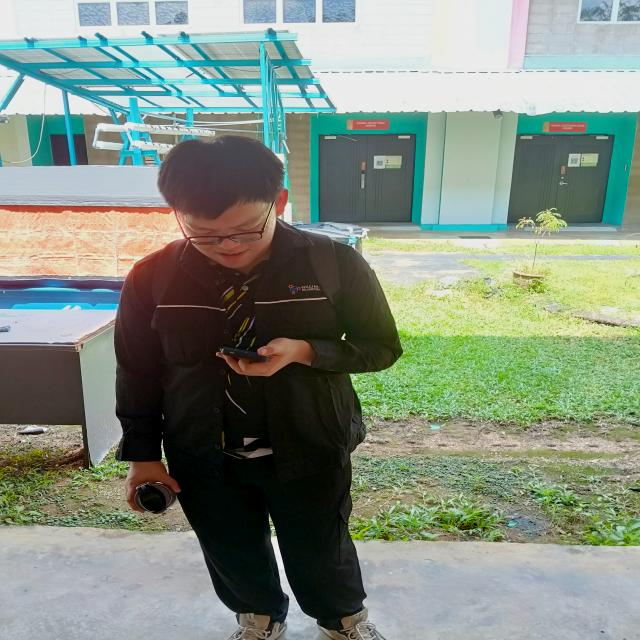person_with_labcoat: (115, 135, 402, 640)
